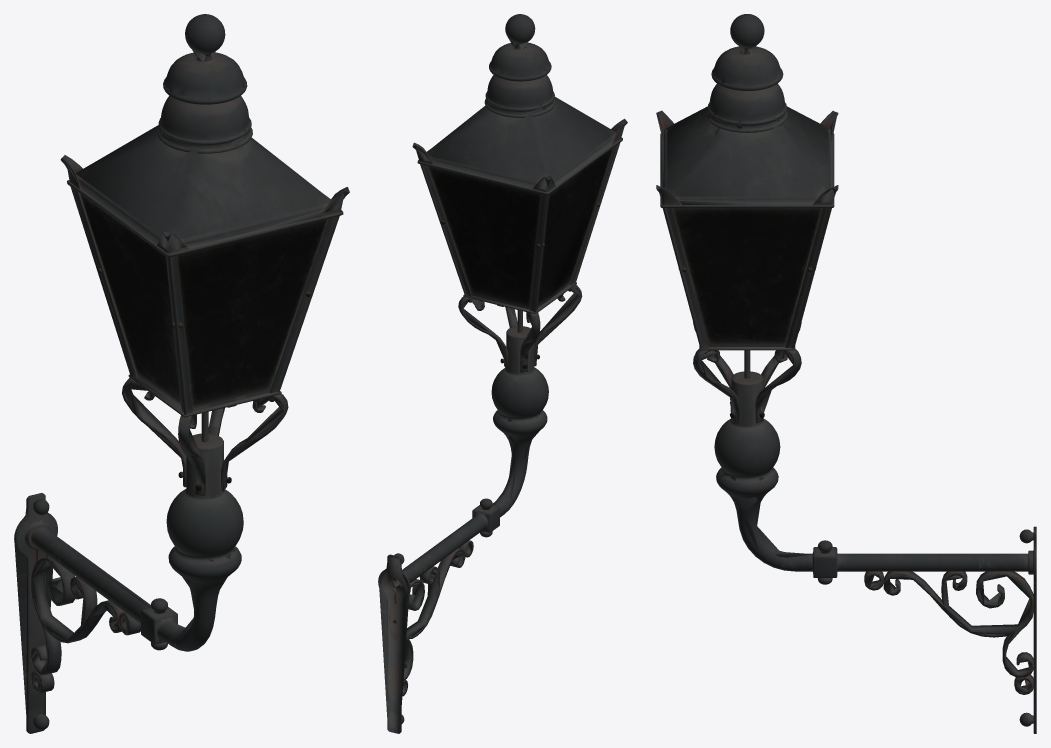
The model's file is street_lamp_02.glb.
The picture shows the model from 3 angles, left to right: view 1: azimuth 30°, elevation 25°; view 2: azimuth 150°, elevation 25°; view 3: azimuth 270°, elevation 25°; orthographic projection. The views are drawn at different scales.
Visible parts, largest first — view 1: street_lamp_02, street_lamp_02_lo; view 2: street_lamp_02, street_lamp_02_lo; view 3: street_lamp_02, street_lamp_02_lo.
Boxes of the visible parts, x1,y1,x2,y2 form: street_lamp_02: (14, 14, 349, 733); street_lamp_02_lo: (14, 50, 346, 717); street_lamp_02: (378, 14, 627, 733); street_lamp_02_lo: (379, 38, 625, 733); street_lamp_02: (656, 14, 1036, 733); street_lamp_02_lo: (657, 44, 1036, 718).
Size of the model in its own units: 0.3865 by 1.68 by 0.8068.
2 materials, 2 textured.
